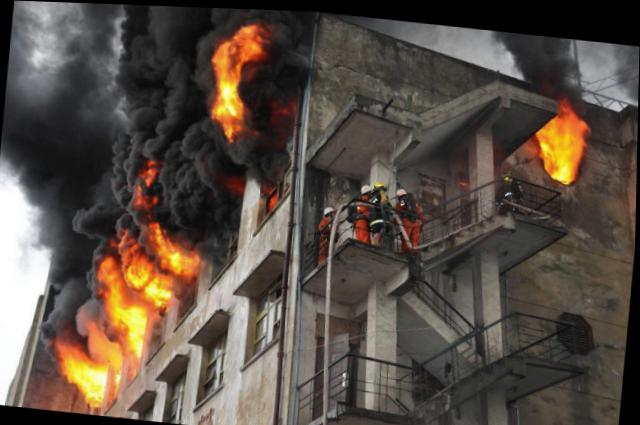fire: (536, 102, 589, 181), (211, 41, 249, 119), (105, 274, 138, 324), (126, 299, 151, 357), (238, 18, 270, 61), (79, 359, 110, 403), (142, 271, 175, 312), (87, 321, 117, 361), (125, 249, 156, 287), (61, 342, 90, 382), (164, 244, 201, 275), (224, 115, 255, 138), (109, 338, 125, 382), (151, 220, 174, 249), (101, 256, 126, 281), (142, 158, 160, 182)
